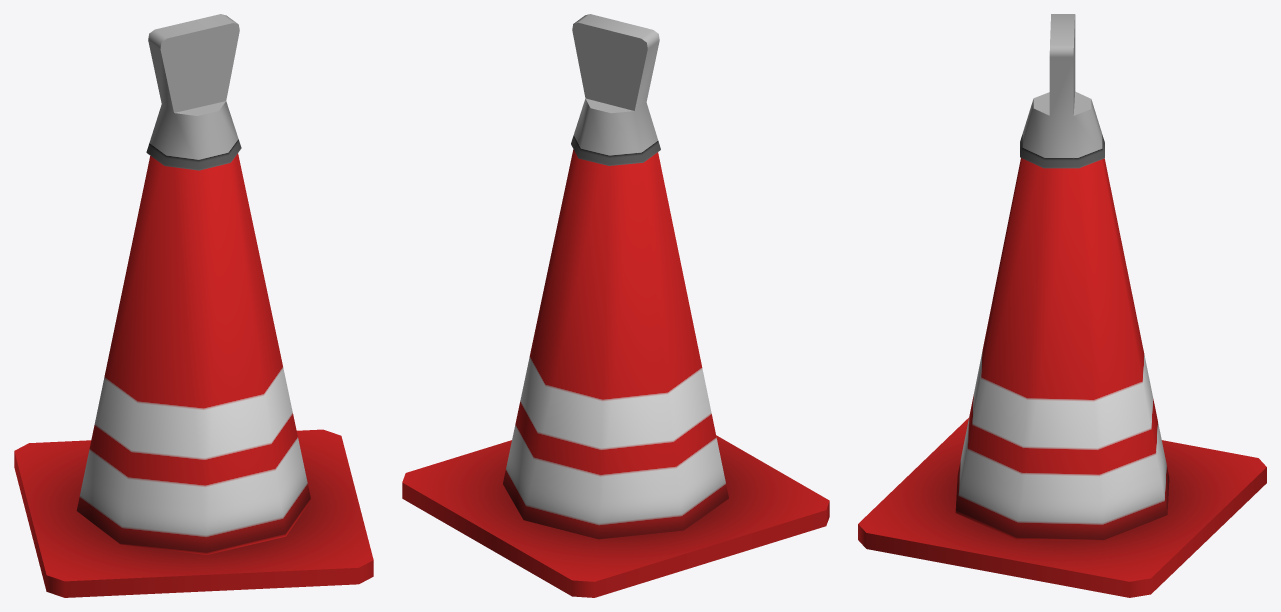
The model's file is corn.fbx.
3 renders of one model, left to right at view 1: azimuth 30°, elevation 25°; view 2: azimuth 150°, elevation 25°; view 3: azimuth 270°, elevation 25°, orthographic. The views are drawn at different scales.
Parts seen in each view (by area): view 1: cylinder, cube2; view 2: cylinder, cube2; view 3: cylinder, cube2.
Boxes of the visible parts, <box> form: cylinder: <box>14,153,373,597</box>; cube2: <box>146,14,241,170</box>; cylinder: <box>402,149,829,597</box>; cube2: <box>571,14,660,165</box>; cylinder: <box>858,158,1266,597</box>; cube2: <box>1020,14,1104,168</box>.
Size of the model in its own units: 56.26 by 73.22 by 56.26.
